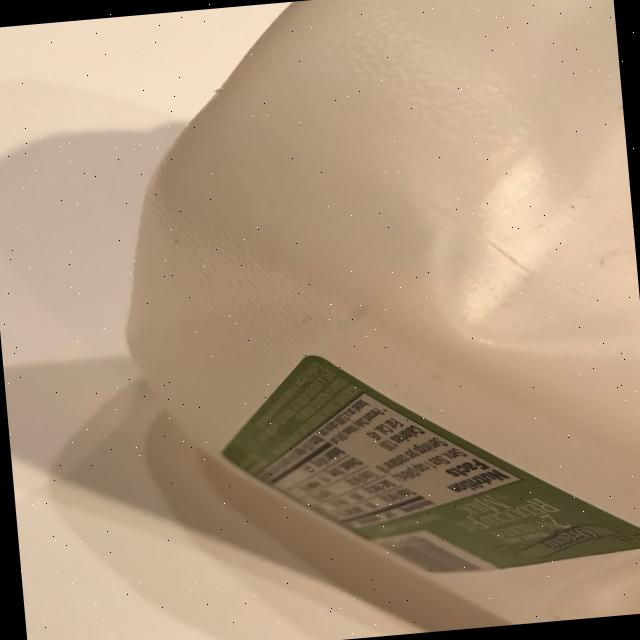plastic: (95, 0, 640, 640)
